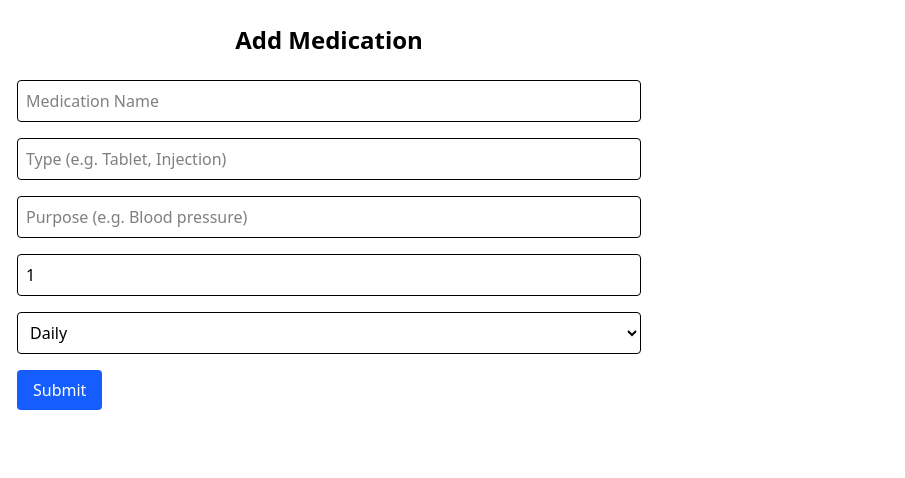
Test case: AddMedication › requires selecting at least one day for weekly schedule
Step 1. Type "WeeklyMed" into the field with placeholder "Medication Name" → [329, 101], box [17,80,641,122]
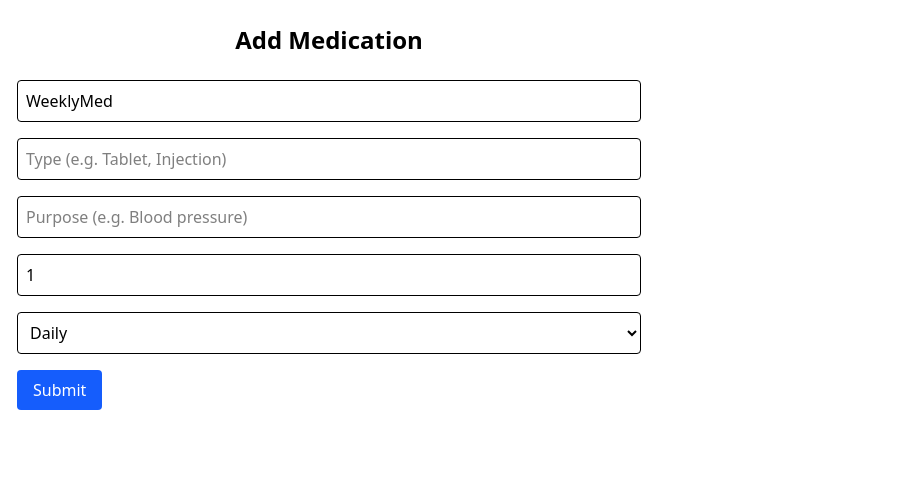
Step 2. Type "Pill" into the field with placeholder "Type (e.g. Tablet, Injection)" → [329, 159], box [17,138,641,180]
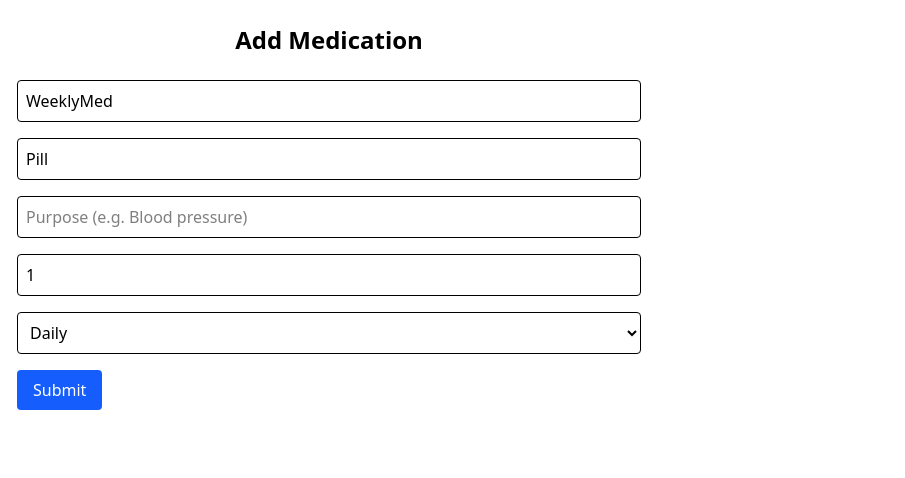
Step 3. Type "Purpose" into the field with placeholder "Purpose (e.g. Blood pressure)" → [329, 217], box [17,196,641,238]
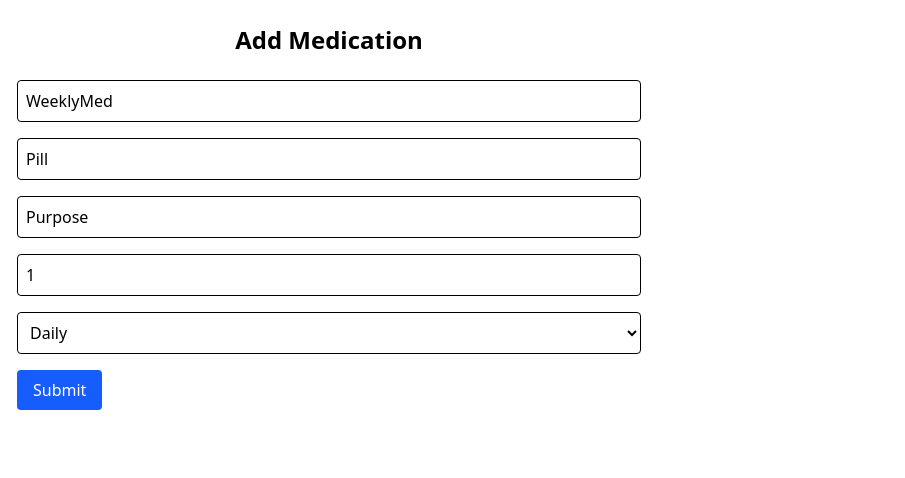
Step 4. Select "Weekly" in the dropdown → [329, 333], box [17,312,641,354]
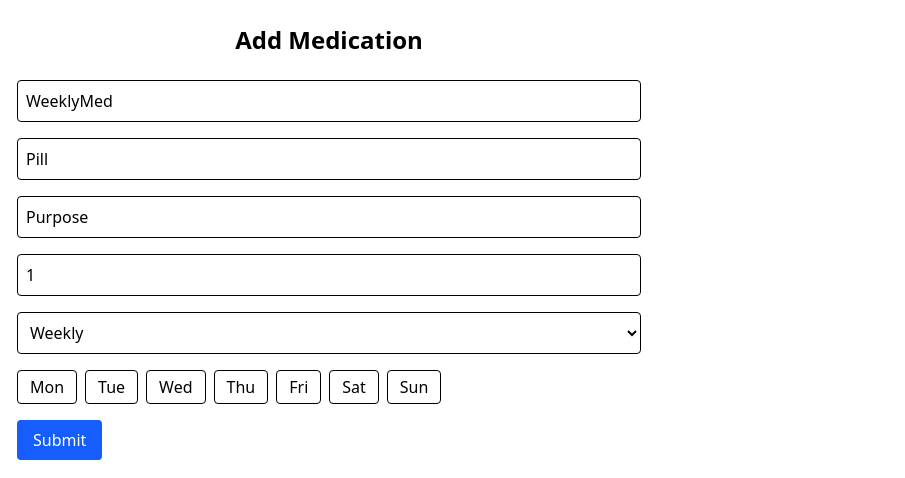
Step 5. Click the button "Submit" → [60, 440], box [17,420,102,460]
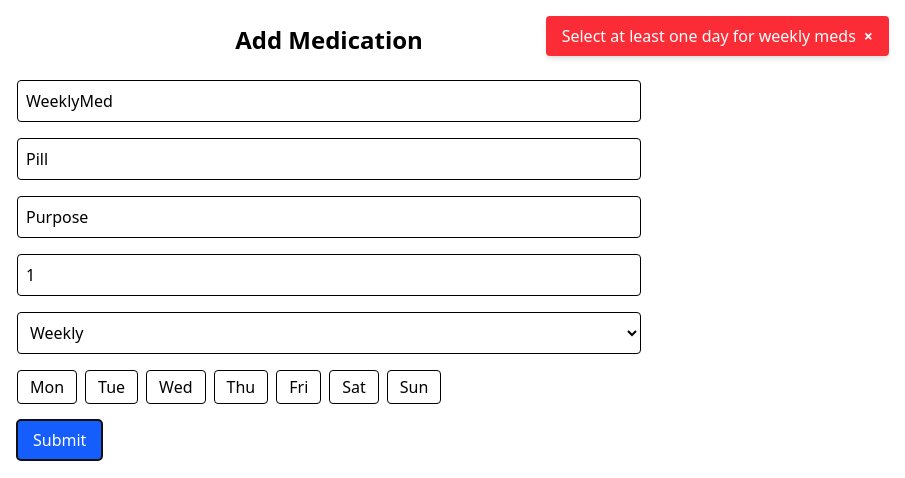
Now the text "Select at least one day for weekly meds" is shown, box [562,25,856,47]
